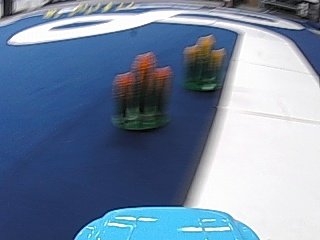corn: (109, 48, 173, 135), (179, 29, 229, 92)
